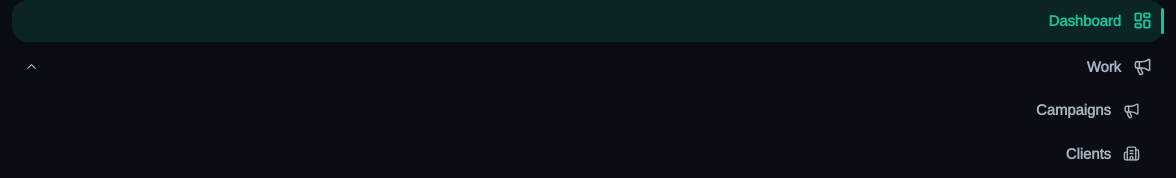
Test: SidebarNav › remembers a group the user collapsed
Click the button with test id "nav-group-work" at (1104,66), box x1=12 y1=46 x2=1164 y2=87
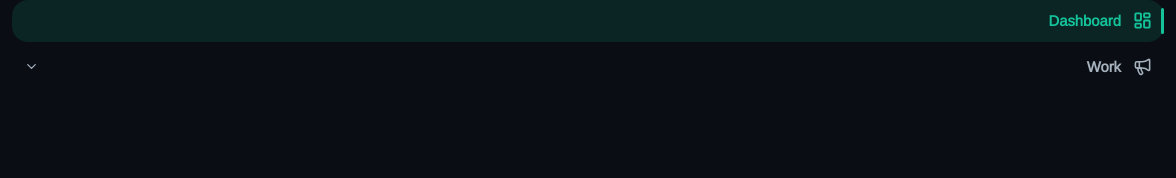
Now the link "Campaigns" is gone
